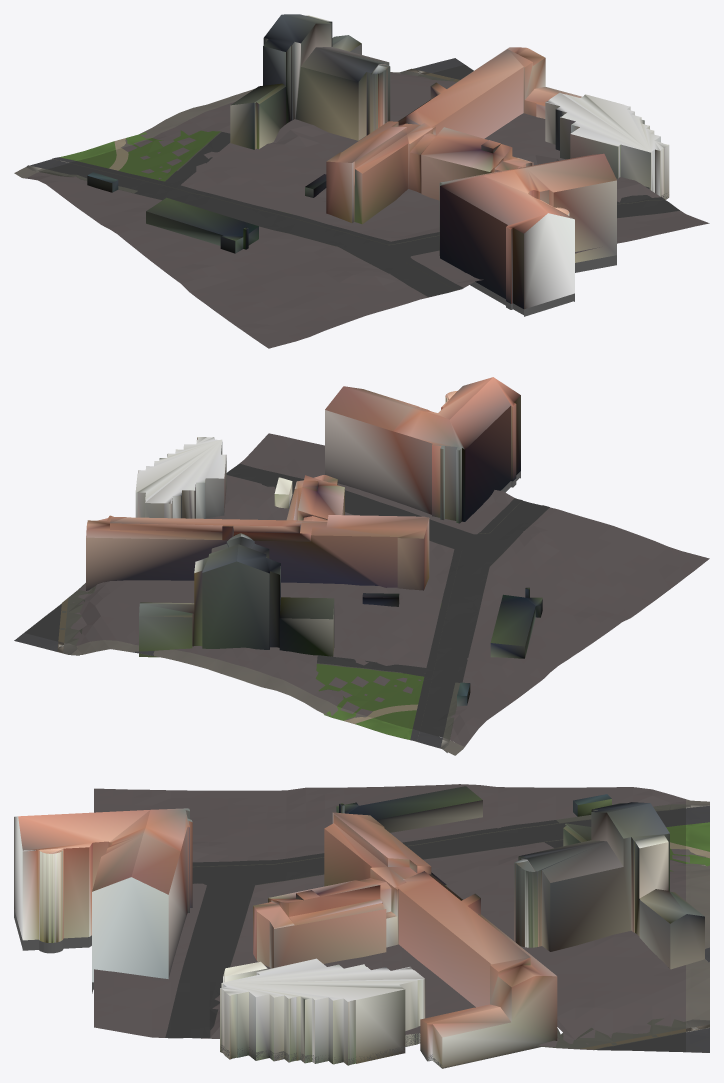
3 renders of one model, top to bottom at view 1: azimuth 30°, elevation 25°; view 2: azimuth 150°, elevation 25°; view 3: azimuth 270°, elevation 25°, orthographic. The views are drawn at different scales.
Visible parts, largest first — view 1: append:c_m14_m09, c_m14_m09; view 2: append:c_m14_m09, c_m14_m09; view 3: append:c_m14_m09, c_m14_m09.
Boxes of the visible parts, x1,y1,x2,y2 form: append:c_m14_m09: (25,14,709,348); c_m14_m09: (14,58,616,316); append:c_m14_m09: (24,433,709,746); c_m14_m09: (14,377,520,755); append:c_m14_m09: (94,784,704,1068); c_m14_m09: (14,799,709,1052).
Size of the model in its own units: 138 by 33.9 by 145.
